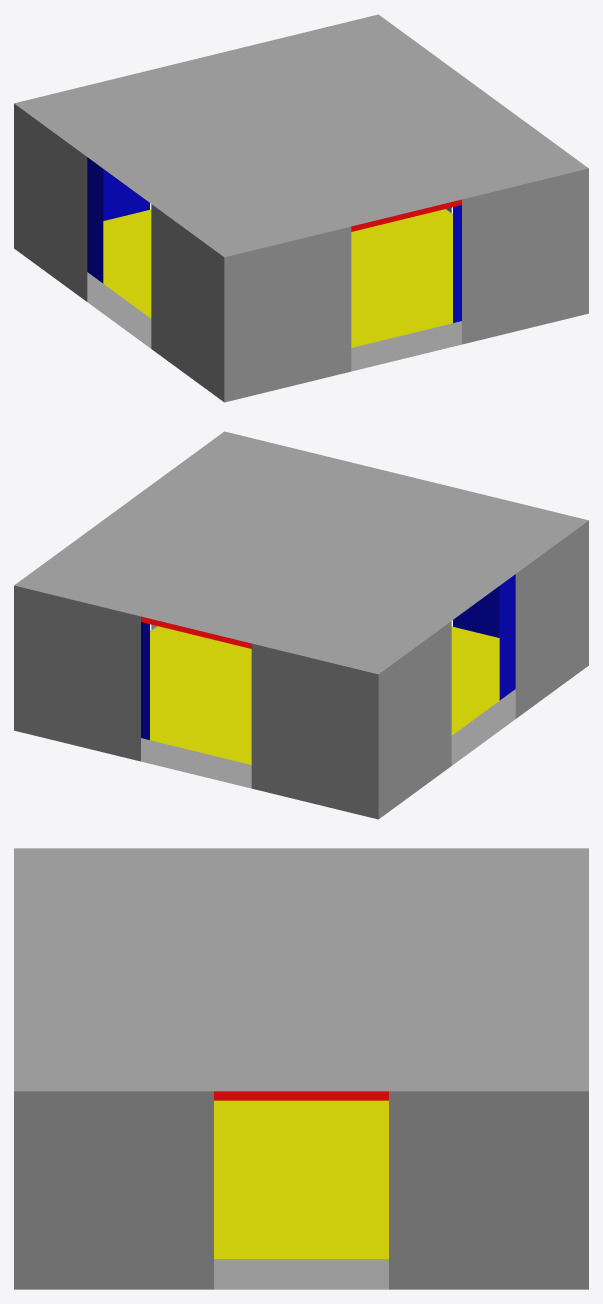
Rendered from big area hollow.fbx.
The picture shows the model from 3 angles, top to bottom: view 1: azimuth 30°, elevation 25°; view 2: azimuth 150°, elevation 25°; view 3: azimuth 270°, elevation 25°; orthographic projection. The views are drawn at different scales.
Parts seen in each view (by area): view 1: big_area_hollow; view 2: big_area_hollow; view 3: big_area_hollow.
Boxes of the visible parts, x1=… form: big_area_hollow: x1=14, y1=14, x2=588, y2=402; big_area_hollow: x1=14, y1=431, x2=588, y2=819; big_area_hollow: x1=14, y1=848, x2=588, y2=1289.
Size of the model in its own units: 13.15 by 5 by 13.15.
